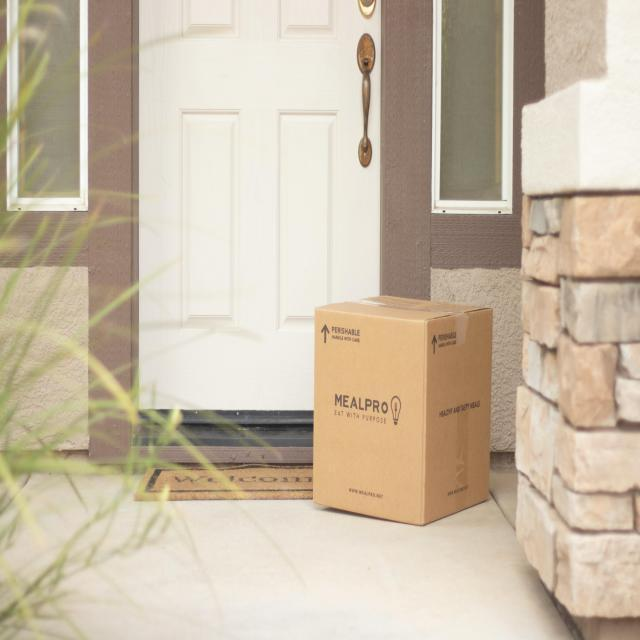box: (312, 292, 493, 526)
